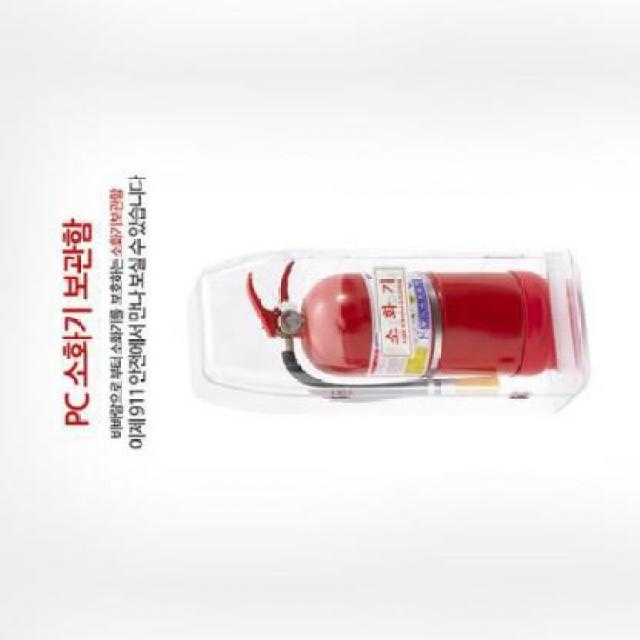fire extinguisher: (246, 259, 559, 404)
